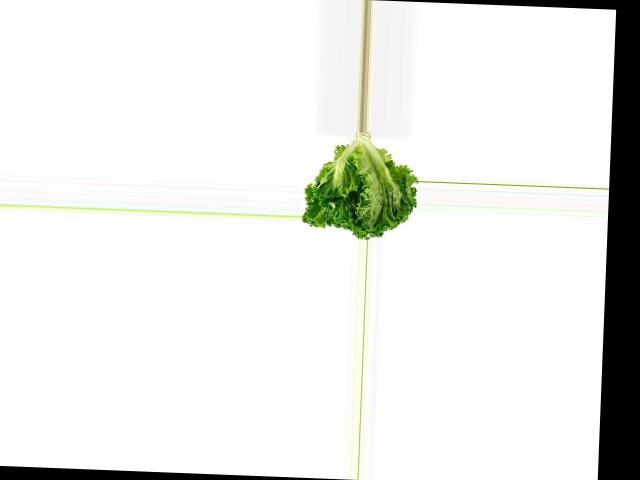lettuce: (302, 129, 420, 240)
